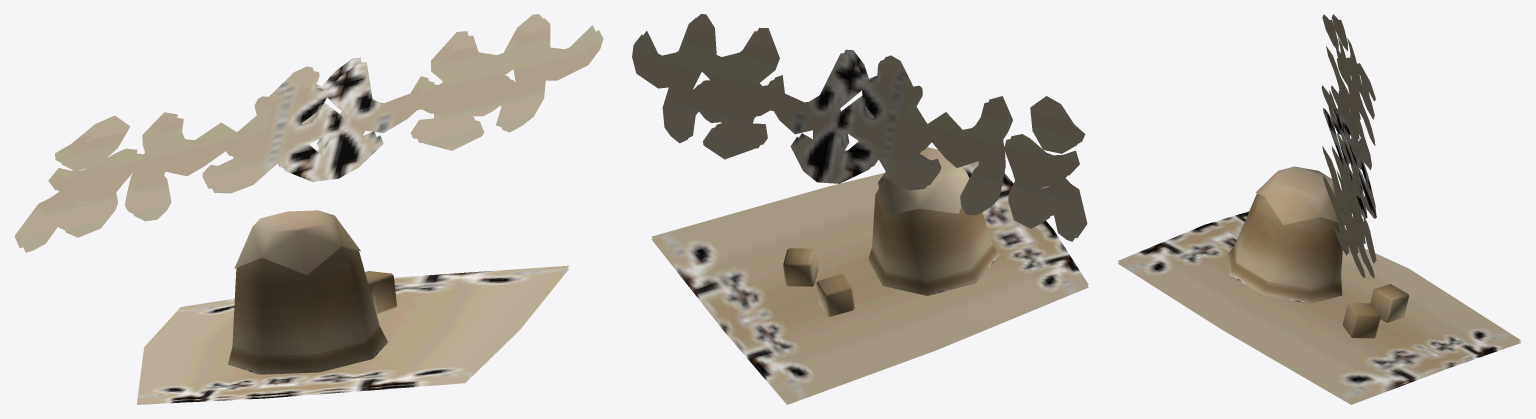
The model's file is fuun.ico.obj.
The picture shows the model from 3 angles, left to right: view 1: azimuth 30°, elevation 25°; view 2: azimuth 150°, elevation 25°; view 3: azimuth 270°, elevation 25°; orthographic projection. The views are drawn at different scales.
Size of the model in its own units: 4.92 by 2.77 by 3.95.
